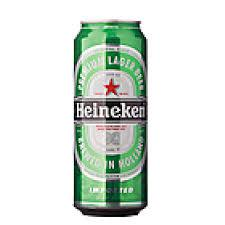beer: (74, 20, 149, 218)
